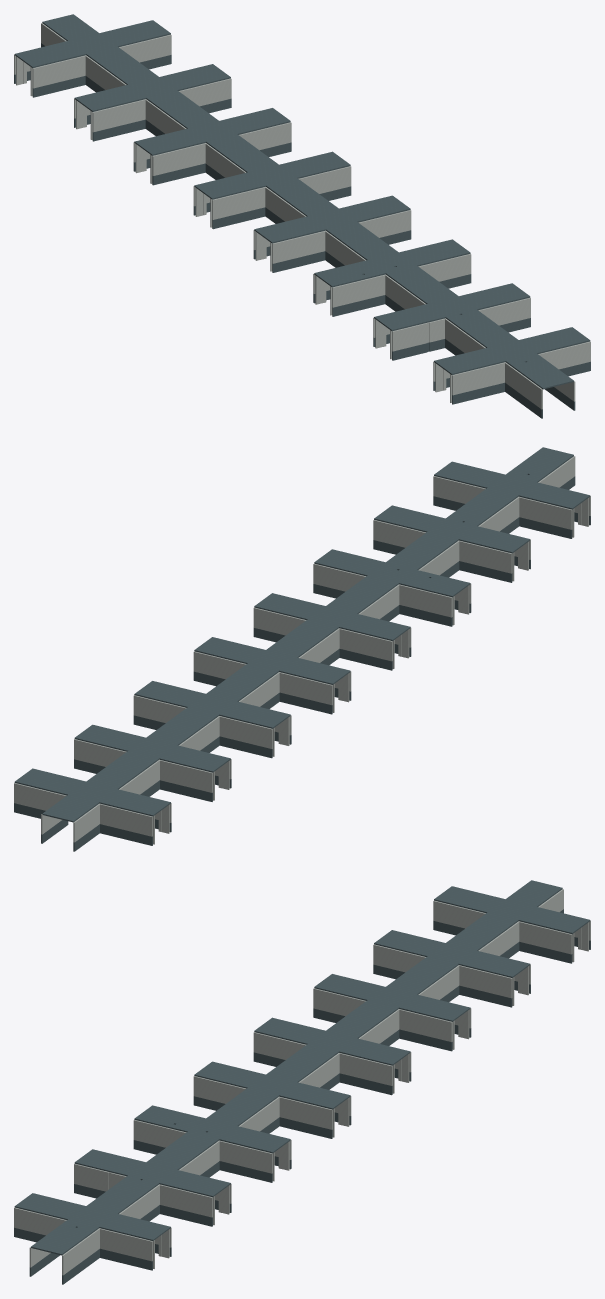
File: AST-STF-G3-028.glb
3 renders of one model, top to bottom at view 1: azimuth 30°, elevation 25°; view 2: azimuth 150°, elevation 25°; view 3: azimuth 330°, elevation 25°, orthographic.
Parts seen in each view (by area): view 1: overhead_staff_bluegrey_paint_10_-13, overhead_staff_bluegrey_paint_10_-7, overhead_staff_bluegrey_paint_10_-10, overhead_staff_bluegrey_paint_10_-16, overhead_staff_bluegrey_paint_10_-14, overhead_staff_bluegrey_paint_10_-17, overhead_staff_bluegrey_paint_10_-11, overhead_staff_bluegrey_paint_10_-8, overhead_staff_bluegrey_paint_10_-12, overhead_staff_bluegrey_paint_10_-15, overhead_staff_bluegrey_paint_10_-9, overhead_staff_bluegrey_paint_10_-18 (+26 smaller); view 2: overhead_staff_bluegrey_paint_10_-16, overhead_staff_bluegrey_paint_10_-7, overhead_staff_bluegrey_paint_10_-13, overhead_staff_bluegrey_paint_10_-10, overhead_staff_bluegrey_paint_10_-12, overhead_staff_bluegrey_paint_10_-15, overhead_staff_bluegrey_paint_10_-9, overhead_staff_bluegrey_paint_10_-11, overhead_staff_bluegrey_paint_10_-14, overhead_staff_bluegrey_paint_10_-8, overhead_staff_bluegrey_paint_10_-17, overhead_staff_bluegrey_paint_10_-18 (+26 smaller); view 3: overhead_staff_bluegrey_paint_10_-7, overhead_staff_bluegrey_paint_10_-16, overhead_staff_bluegrey_paint_10_-13, overhead_staff_bluegrey_paint_10_-10, overhead_staff_bluegrey_paint_10_-14, overhead_staff_bluegrey_paint_10_-17, overhead_staff_bluegrey_paint_10_-11, overhead_staff_bluegrey_paint_10_-8, overhead_staff_bluegrey_paint_10_-12, overhead_staff_bluegrey_paint_10_-15, overhead_staff_bluegrey_paint_10_-9, overhead_staff_bluegrey_paint_10_-18 (+34 smaller).
Part boxes in pixels (x1,y1,x2,y2): overhead_staff_bluegrey_paint_10_-13: [212, 157, 307, 195]; overhead_staff_bluegrey_paint_10_-7: [451, 332, 546, 370]; overhead_staff_bluegrey_paint_10_-10: [332, 244, 427, 283]; overhead_staff_bluegrey_paint_10_-16: [92, 69, 187, 107]; overhead_staff_bluegrey_paint_10_-14: [161, 127, 267, 165]; overhead_staff_bluegrey_paint_10_-17: [41, 39, 147, 77]; overhead_staff_bluegrey_paint_10_-11: [281, 214, 387, 252]; overhead_staff_bluegrey_paint_10_-8: [401, 302, 506, 340]; overhead_staff_bluegrey_paint_10_-12: [272, 186, 349, 231]; overhead_staff_bluegrey_paint_10_-15: [152, 98, 229, 143]; overhead_staff_bluegrey_paint_10_-9: [392, 273, 469, 319]; overhead_staff_bluegrey_paint_10_-18: [32, 14, 109, 55]; overhead_staff_bluegrey_paint_10_-16: [117, 729, 213, 768]; overhead_staff_bluegrey_paint_10_-7: [477, 466, 572, 505]; overhead_staff_bluegrey_paint_10_-13: [237, 642, 332, 680]; overhead_staff_bluegrey_paint_10_-10: [357, 554, 452, 592]; overhead_staff_bluegrey_paint_10_-12: [277, 612, 383, 650]; overhead_staff_bluegrey_paint_10_-15: [157, 700, 263, 737]; overhead_staff_bluegrey_paint_10_-9: [397, 524, 503, 562]; overhead_staff_bluegrey_paint_10_-11: [315, 583, 392, 628]; overhead_staff_bluegrey_paint_10_-14: [196, 671, 272, 716]; overhead_staff_bluegrey_paint_10_-8: [435, 496, 512, 541]; overhead_staff_bluegrey_paint_10_-17: [76, 759, 152, 804]; overhead_staff_bluegrey_paint_10_-18: [42, 787, 144, 822]; overhead_staff_bluegrey_paint_10_-7: [32, 1197, 128, 1235]; overhead_staff_bluegrey_paint_10_-16: [391, 934, 487, 972]; overhead_staff_bluegrey_paint_10_-13: [271, 1022, 367, 1060]; overhead_staff_bluegrey_paint_10_-10: [151, 1109, 248, 1147]; overhead_staff_bluegrey_paint_10_-14: [331, 984, 409, 1031]; overhead_staff_bluegrey_paint_10_-17: [451, 897, 528, 943]; overhead_staff_bluegrey_paint_10_-11: [211, 1072, 289, 1118]; overhead_staff_bluegrey_paint_10_-8: [92, 1160, 169, 1206]; overhead_staff_bluegrey_paint_10_-12: [221, 1052, 327, 1088]; overhead_staff_bluegrey_paint_10_-15: [341, 964, 447, 1001]; overhead_staff_bluegrey_paint_10_-9: [101, 1139, 208, 1176]; overhead_staff_bluegrey_paint_10_-18: [460, 880, 562, 913].
Bounding box in the file's own units: 16 × 3.34 × 100.
Materials: 2 (2 with a texture image).
